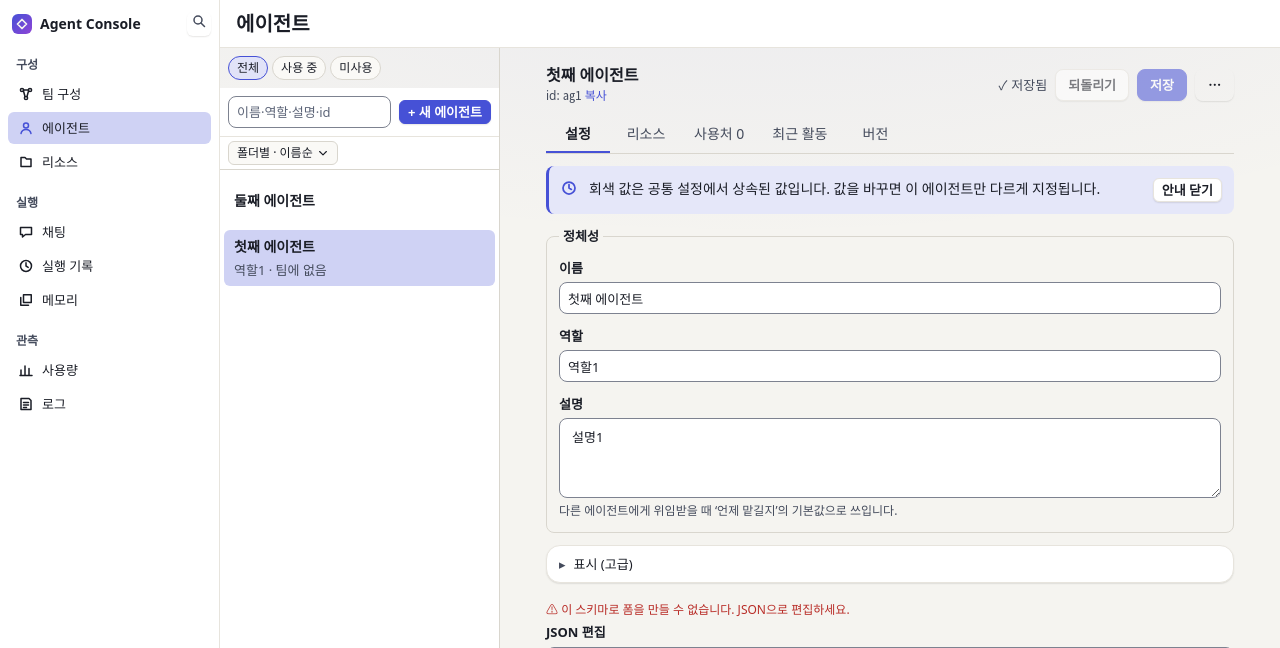
Test case: 내보내기: 형식·항목·옵션 › ① 형식은 GET /exporters 카드로, 고르기 전에는 다음이 막히고 종류 칩은 서버 문자열이다
The image size is (1280, 648).
Click the button named "메뉴" at (1214, 84), box top-left (1195, 68), bottom-right (1234, 100)
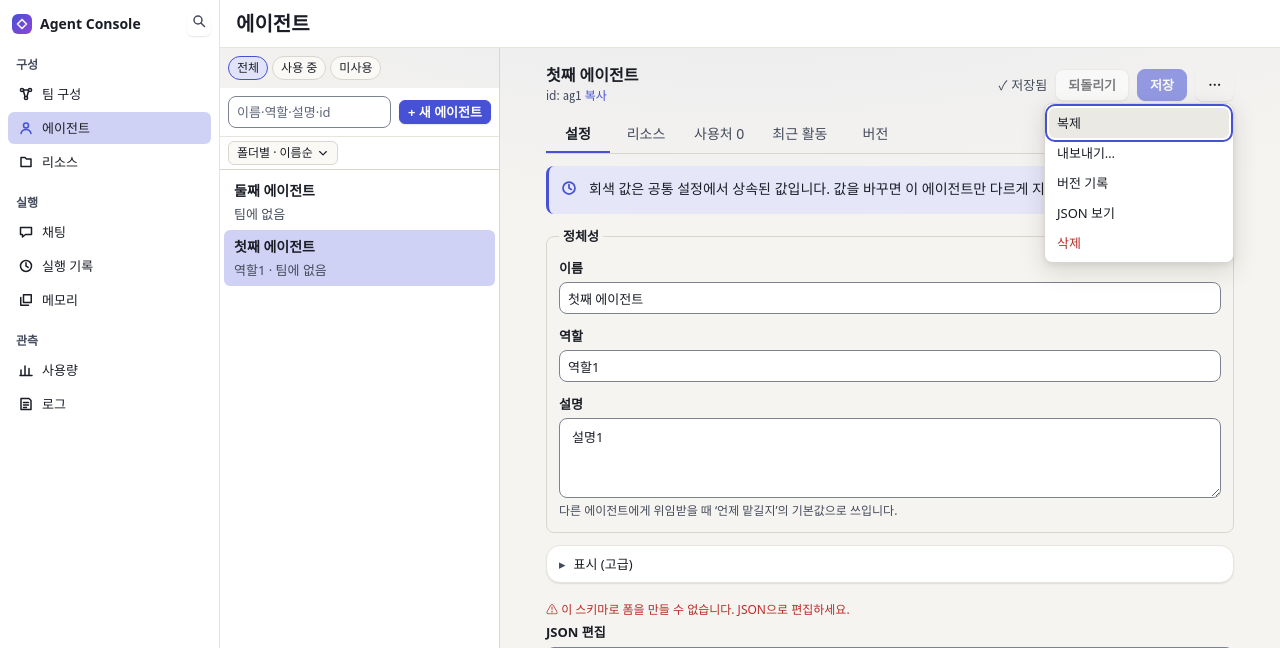
Click the menu item "내보내기…" at (1139, 152), box top-left (1049, 138), bottom-right (1229, 168)
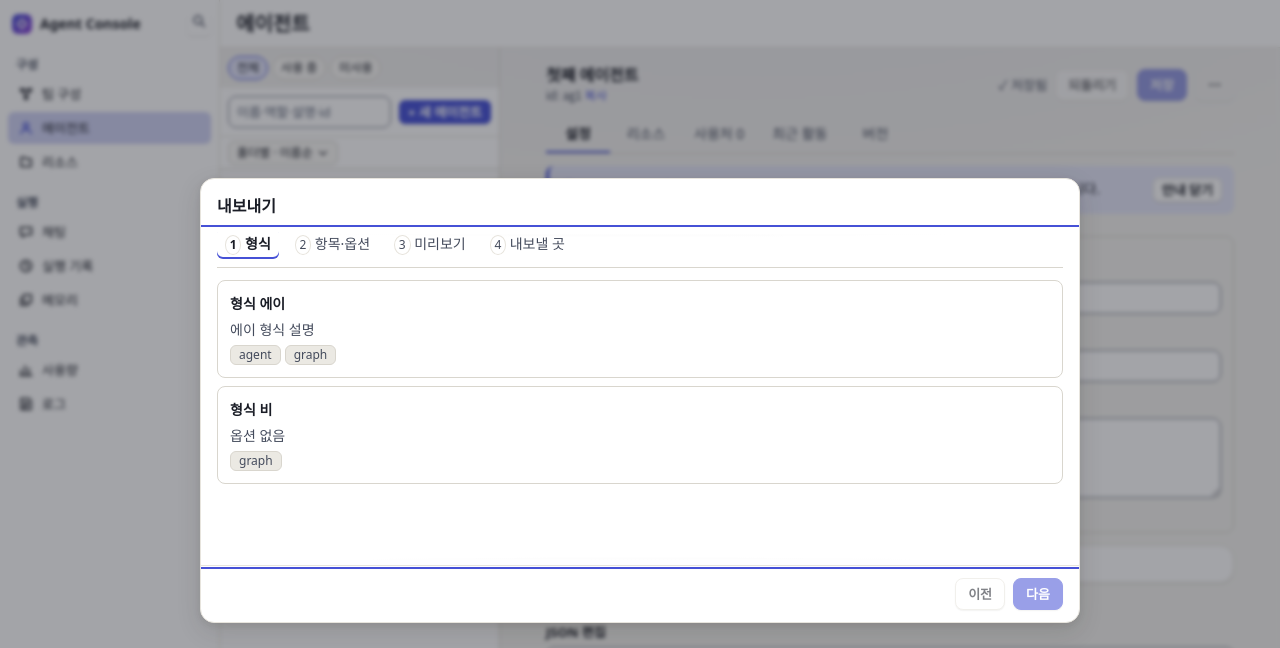
Check: the number of radio buttons is 2
Check: the text "에이 형식 설명" is shown, box top-left (230, 320), bottom-right (315, 338)
Check: the button "다음" is disabled, box top-left (1013, 578), bottom-right (1063, 610)
Click the radio button labelled "형식 에이 에이 형식 설명 agent graph" at (640, 328), box top-left (217, 280), bottom-right (1063, 378)
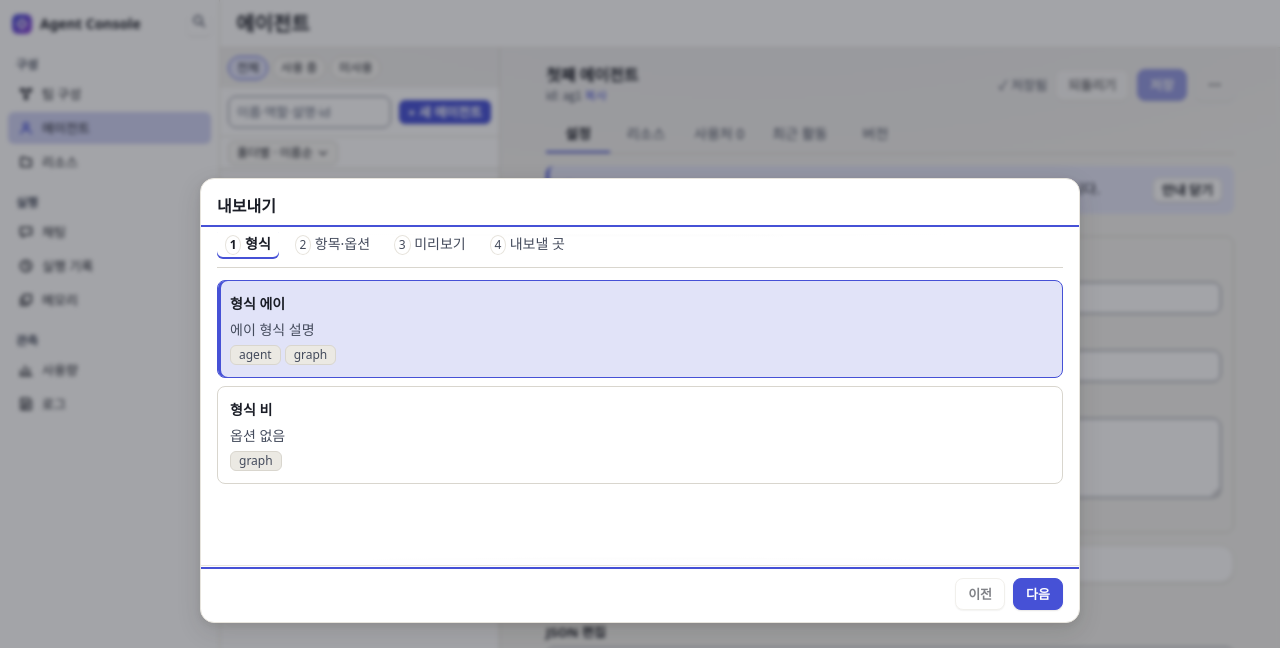
Check: the button "다음" is enabled, box top-left (1013, 578), bottom-right (1063, 610)
